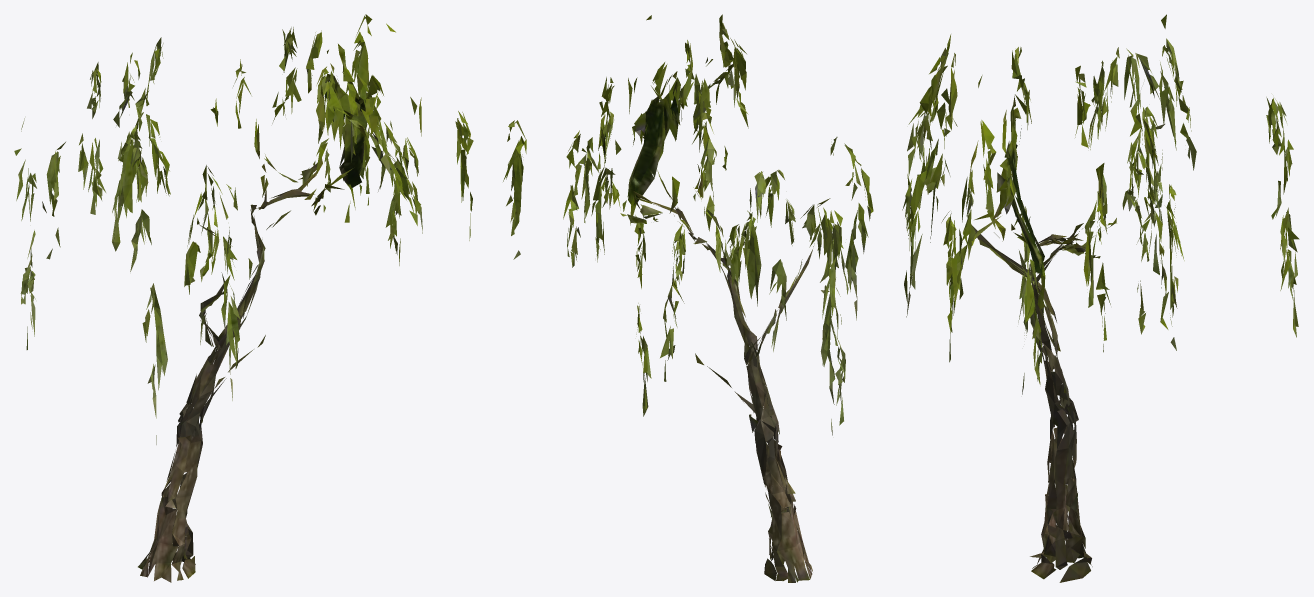
Rendered from tree_willow.glb.
3 views of the same model, side by side, from view 1: azimuth 30°, elevation 25°; view 2: azimuth 150°, elevation 25°; view 3: azimuth 270°, elevation 25° (orthographic). The views are drawn at different scales.
Parts seen in each view (by area): view 1: geometry_0; view 2: geometry_0; view 3: geometry_0.
Part boxes in pixels (<box>): geometry_0: <box>14,14,473,582</box>; geometry_0: <box>503,14,873,582</box>; geometry_0: <box>902,14,1299,582</box>.
Bounding box in the file's own units: 1.4 × 1.98 × 1.18.
Materials: 1 (1 with a texture image).
